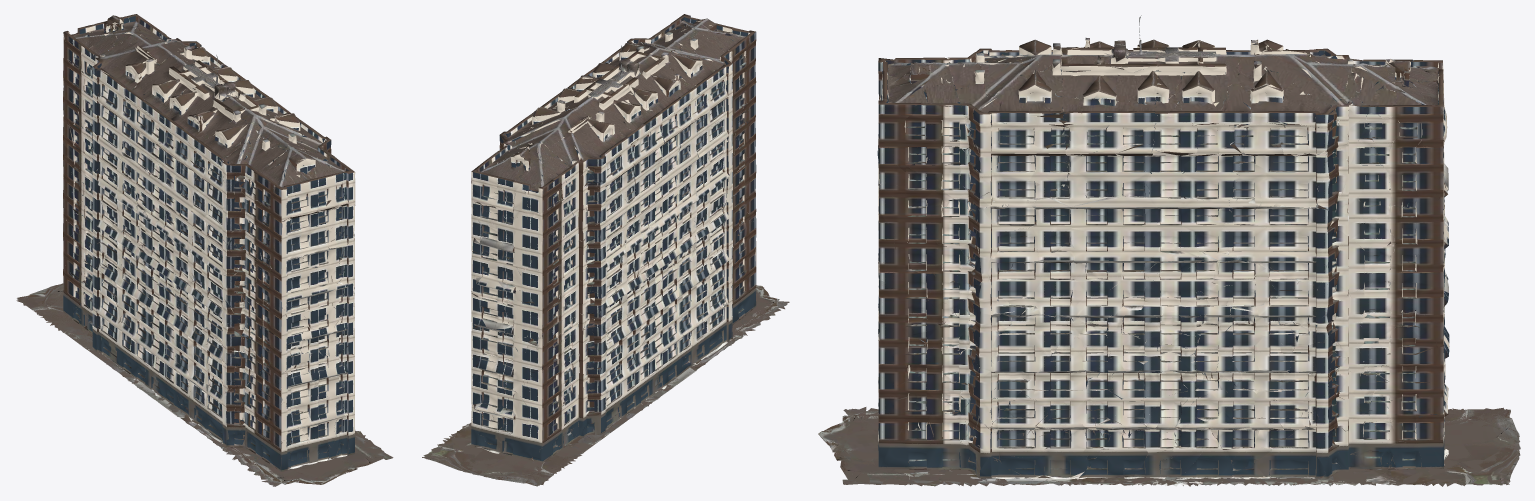
File: urban-tower.glb
3 renders of one model, left to right at view 1: azimuth 30°, elevation 25°; view 2: azimuth 150°, elevation 25°; view 3: azimuth 270°, elevation 25°, orthographic. The views are drawn at different scales.
Parts seen in each view (by area): view 1: UrbanTower; view 2: UrbanTower; view 3: UrbanTower.
Part boxes in pixels (x1=…): UrbanTower: x1=16, y1=14, x2=393, y2=486; UrbanTower: x1=422, y1=14, x2=789, y2=486; UrbanTower: x1=818, y1=15, x2=1520, y2=486.
Bounding box in the file's own units: 0.5116 × 1.28 × 1.89.
2 materials, 2 textured.
